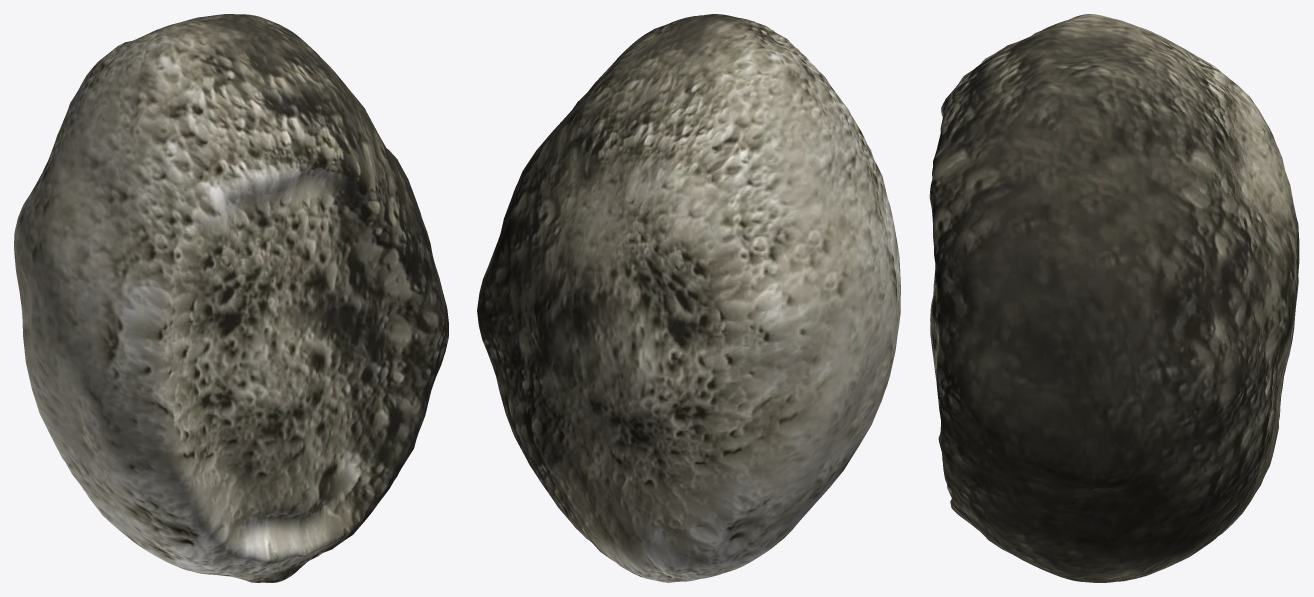
File: hyperion.glb
3 renders of one model, left to right at view 1: azimuth 30°, elevation 25°; view 2: azimuth 150°, elevation 25°; view 3: azimuth 270°, elevation 25°, orthographic. The views are drawn at different scales.
Parts seen in each view (by area): view 1: Hyperion; view 2: Hyperion; view 3: Hyperion.
Boxes of the visible parts, x1,y1,x2,y2 form: Hyperion: (14,14,448,582); Hyperion: (477,14,900,582); Hyperion: (929,14,1299,582).
Bounding box in the file's own units: 275 × 391 × 250.
Materials: 1 (1 with a texture image).
